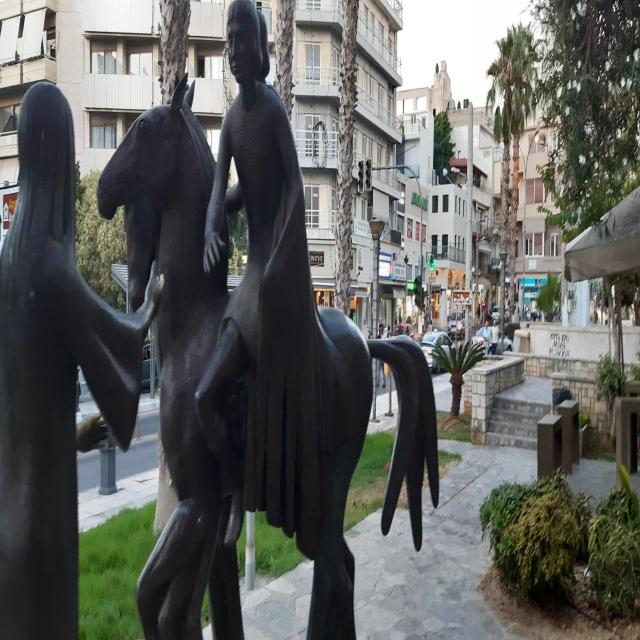Aretousa: (2, 1, 441, 640)
